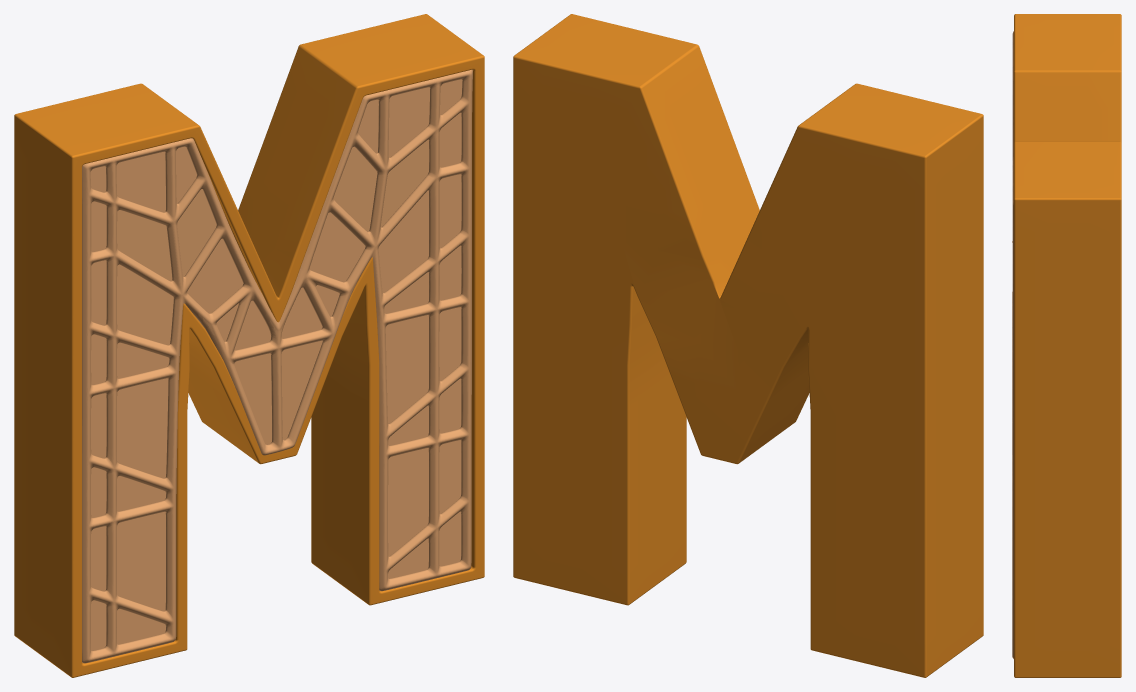
3 views of the same model, side by side, from view 1: azimuth 30°, elevation 25°; view 2: azimuth 150°, elevation 25°; view 3: azimuth 270°, elevation 25° (orthographic). The views are drawn at different scales.
Visible parts, largest first — view 1: Text.013, Plane.021, Plane.041; view 2: Text.013; view 3: Text.013, Plane.041.
Part boxes in pixels (x1,y1,x2,y2): Text.013: [14, 14, 484, 677]; Plane.021: [90, 79, 462, 650]; Plane.041: [82, 69, 472, 663]; Text.013: [513, 14, 983, 677]; Text.013: [1014, 14, 1121, 677]; Plane.041: [1012, 31, 1013, 658].
Bounding box in the file's own units: 1.77 × 2.14 × 0.4424.
